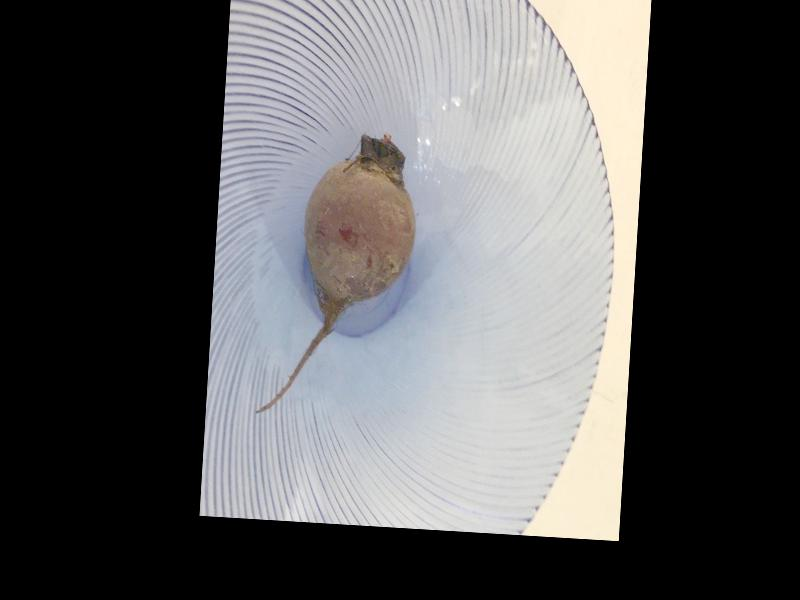Beet: (256, 128, 419, 421)
